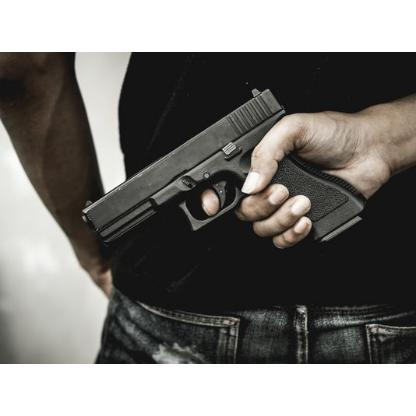gun: (83, 82, 367, 258)
